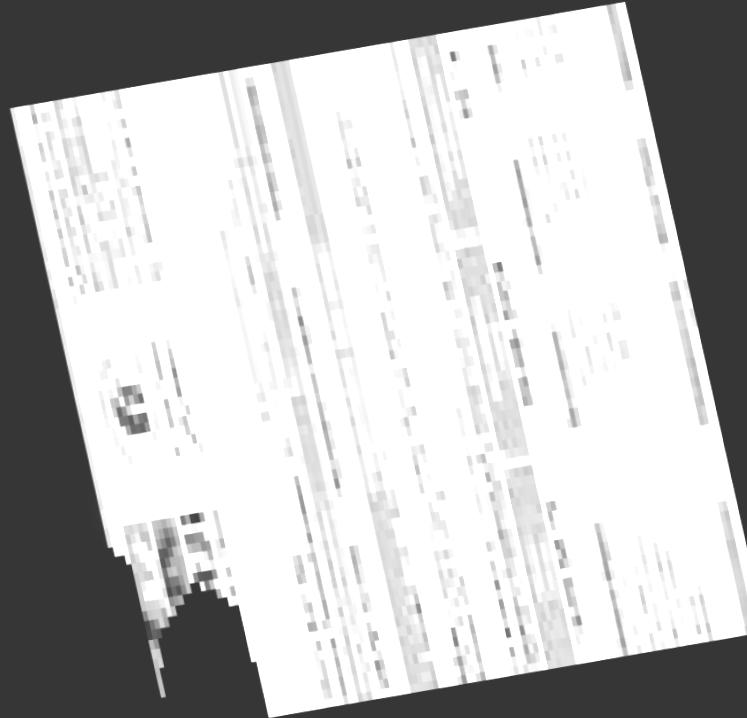electricity-bill: (1, 1, 747, 718)
